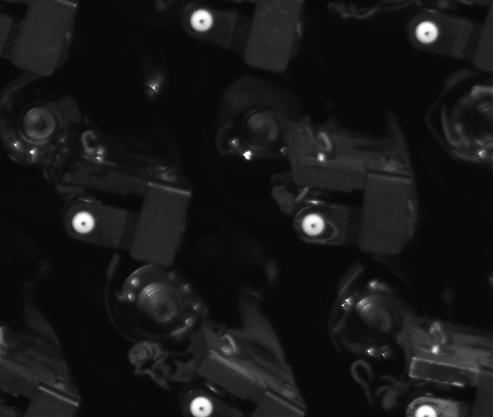fiber: (296, 207, 329, 240), (66, 207, 97, 240), (186, 7, 221, 35), (184, 391, 220, 417), (410, 18, 442, 47), (410, 400, 439, 417)
